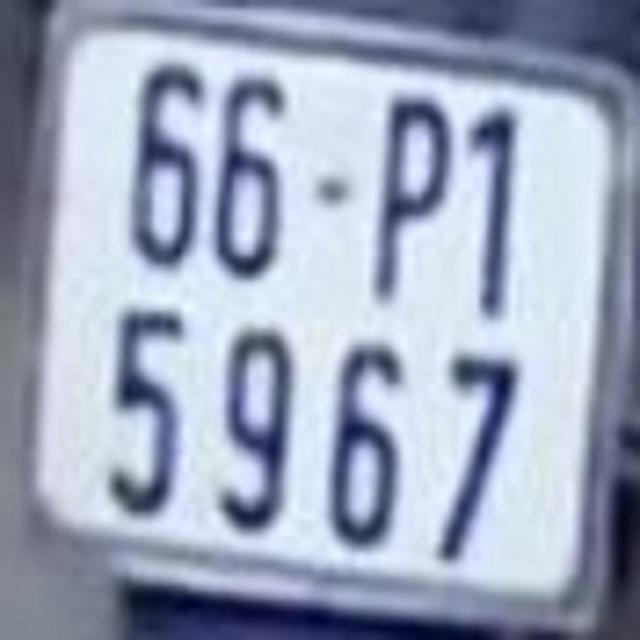1: (462, 98, 512, 317)
5: (106, 296, 177, 515)
6: (211, 66, 288, 280), (328, 330, 402, 548), (130, 56, 200, 266)
7: (435, 344, 521, 566)
9: (217, 318, 290, 536)
P: (371, 86, 452, 302)
